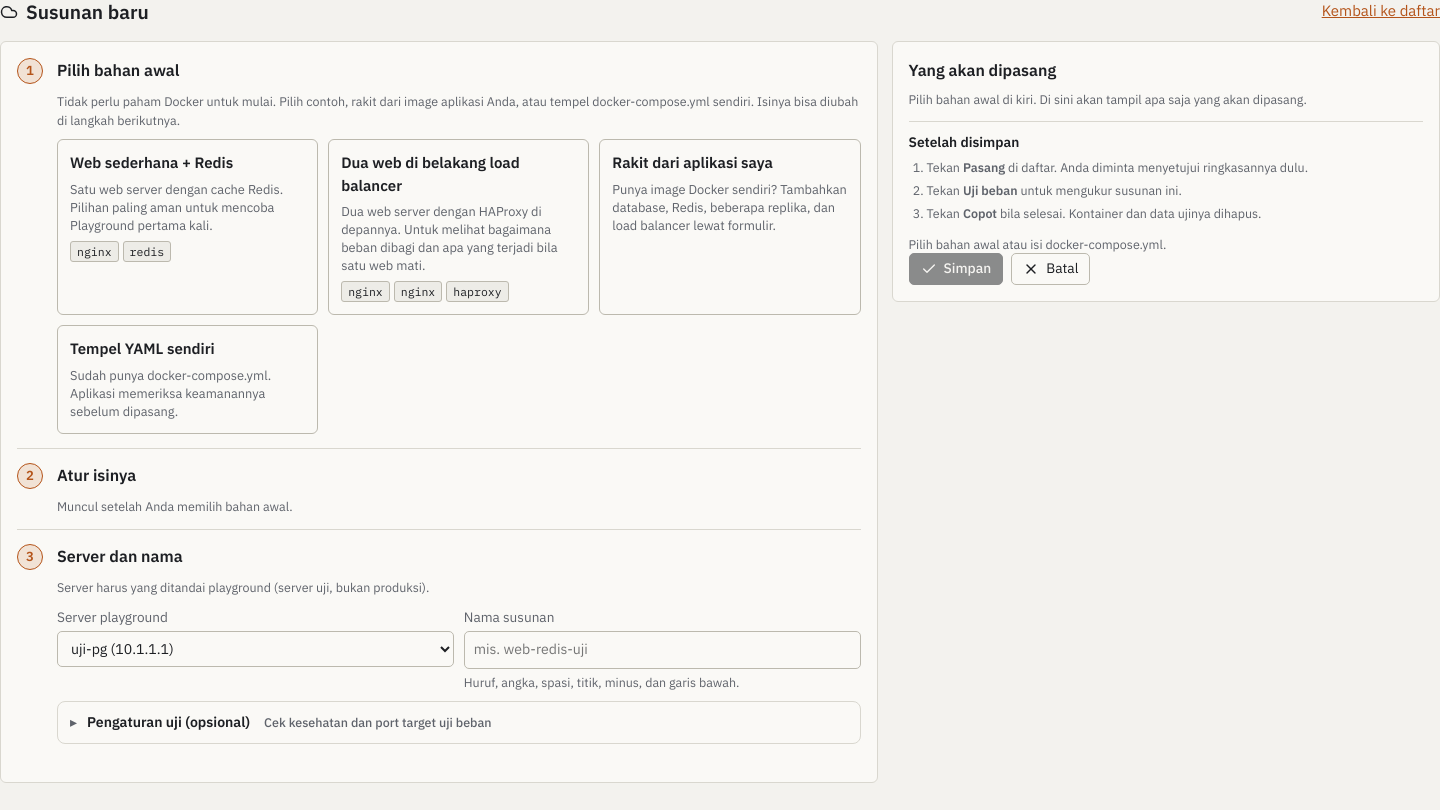
Test case: nama susunan › mengetik nama dengan tanda yang ditolak menampilkan pesan dan mengunci Simpan
Click the button that starts with "Web sederhana + Redis" at (188, 227), box [57, 140, 318, 315]
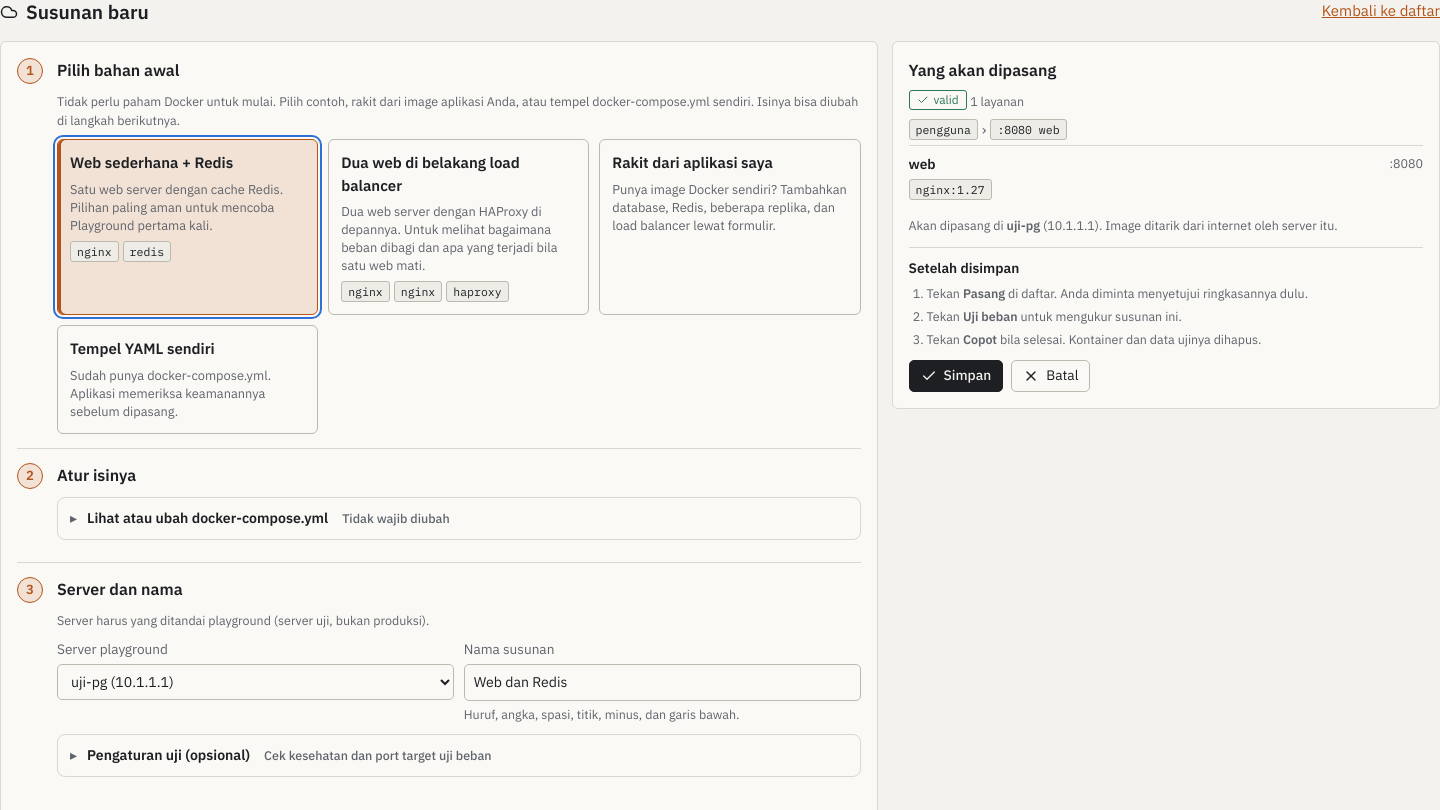
expect the button "Simpan" is enabled: met, box [908, 360, 1003, 392]
Replace the text in the field with placeholder "mis. web-redis-uji" with "web + redis" at (662, 682), box [464, 664, 861, 701]
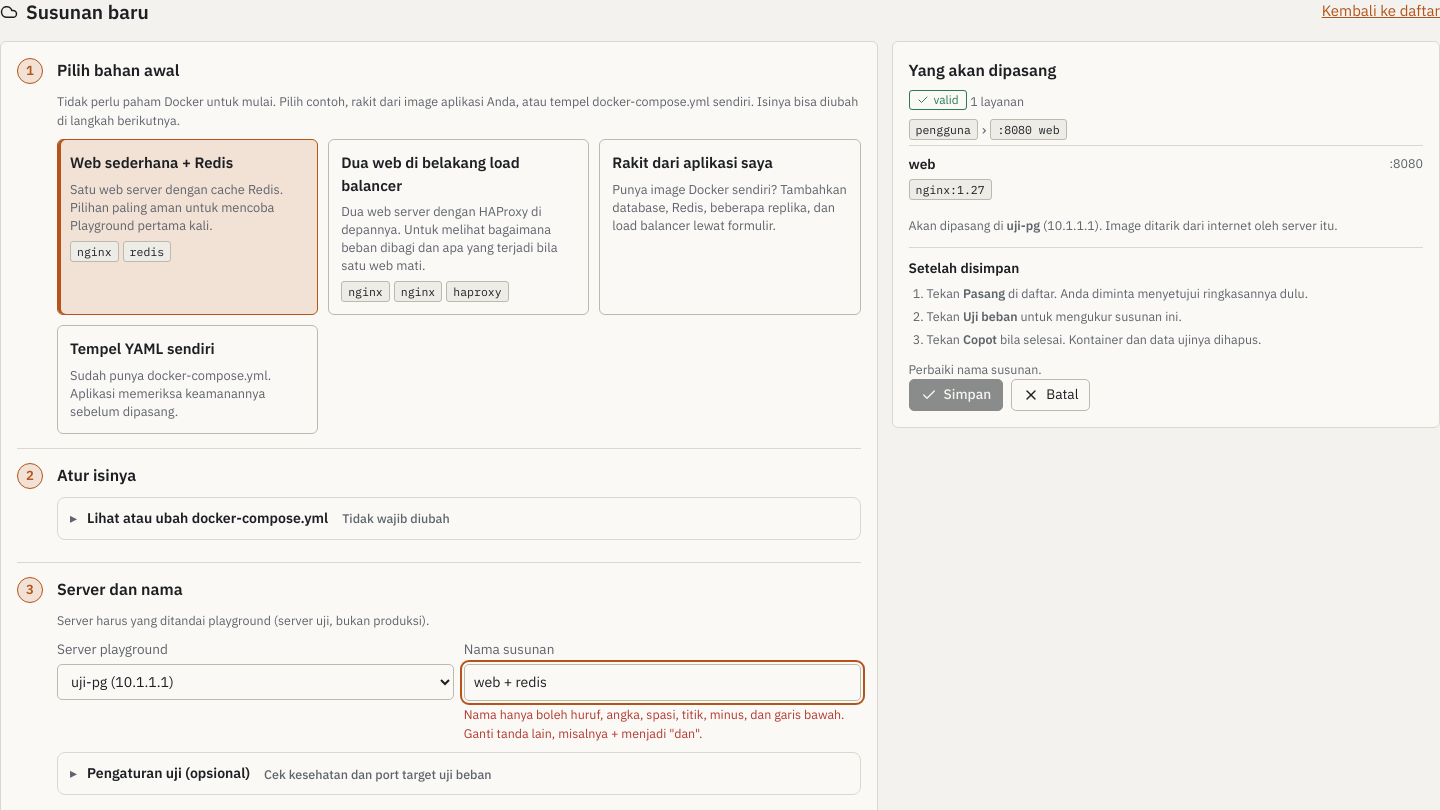
expect the button "Simpan" is disabled: met, box [908, 379, 1003, 411]
expect the 2nd message shows "Nama hanya boleh huruf, angka, spasi, titik, minus, dan garis bawah": met, box [464, 706, 845, 741]
Replace the text in the field with placeholder "mis. web-redis-uji" with "web dan redis" at (662, 682), box [464, 664, 861, 701]
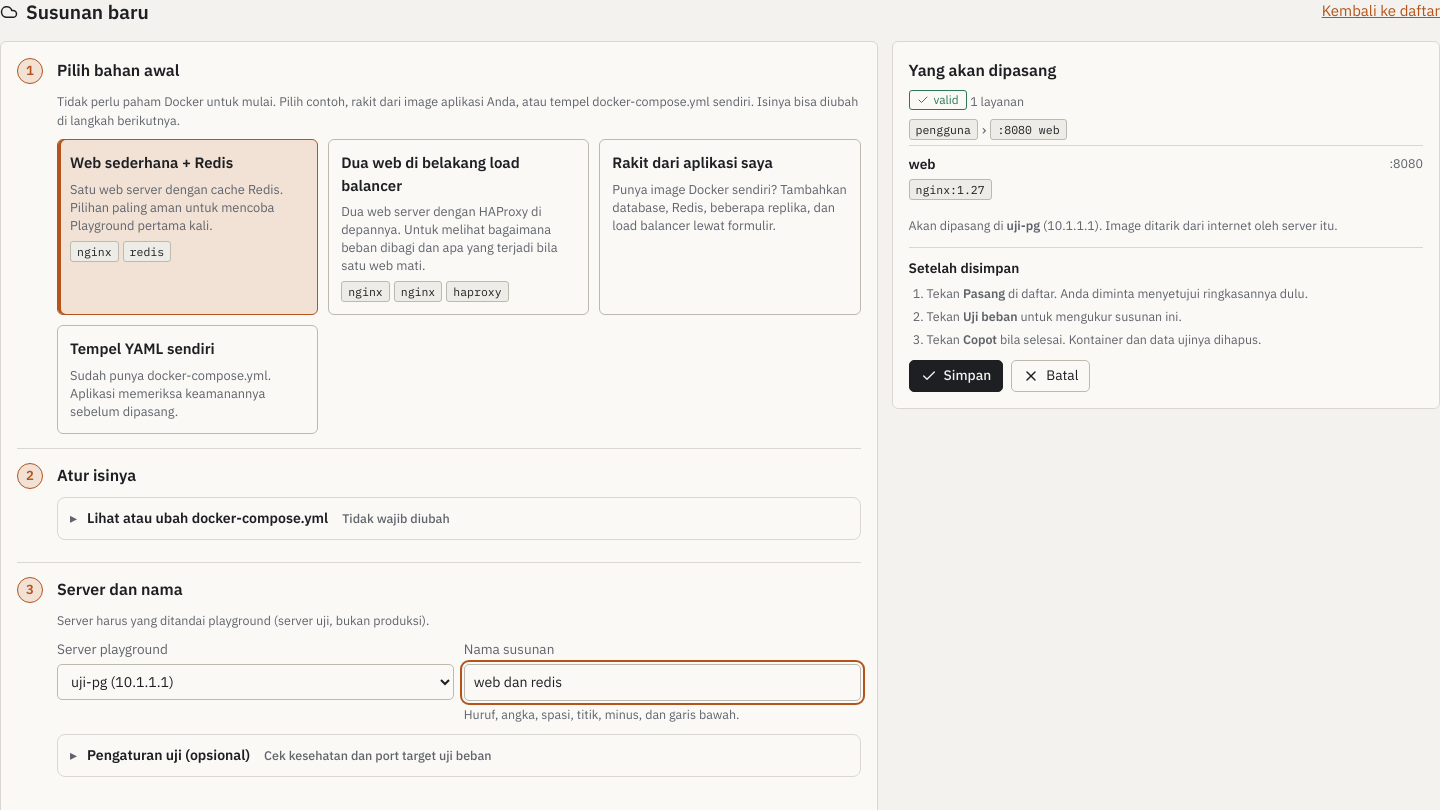
expect the button "Simpan" is enabled: met, box [908, 360, 1003, 392]
expect the message "Beri nama susunan." is gone: met
